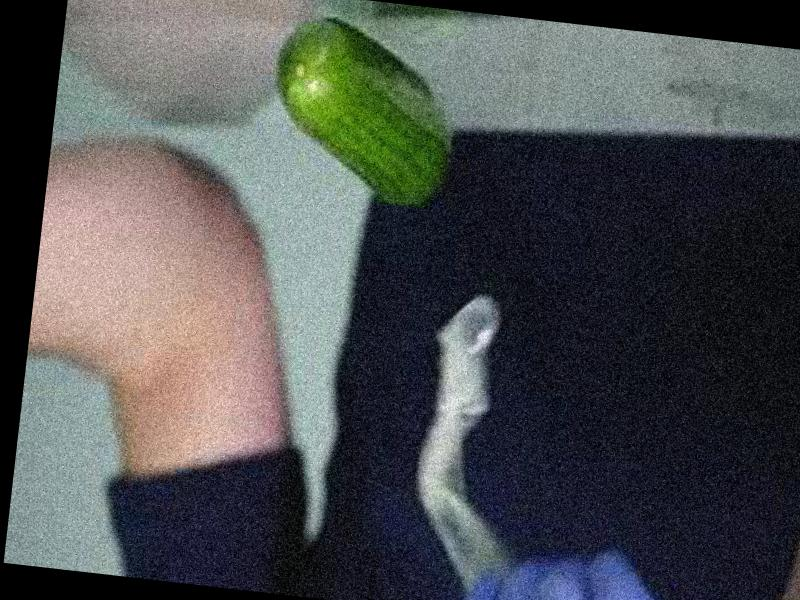Cucumber: (263, 11, 463, 209)
